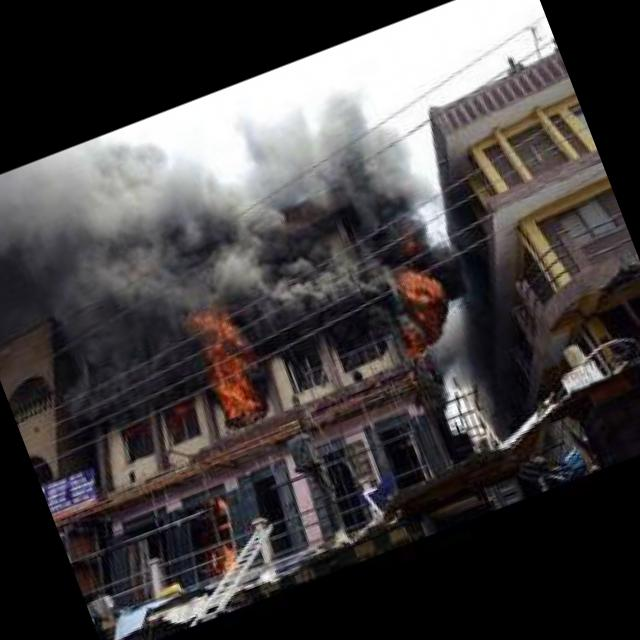fire: (184, 296, 285, 441), (370, 250, 472, 364), (194, 488, 258, 585)
smoke: (0, 56, 466, 455)
